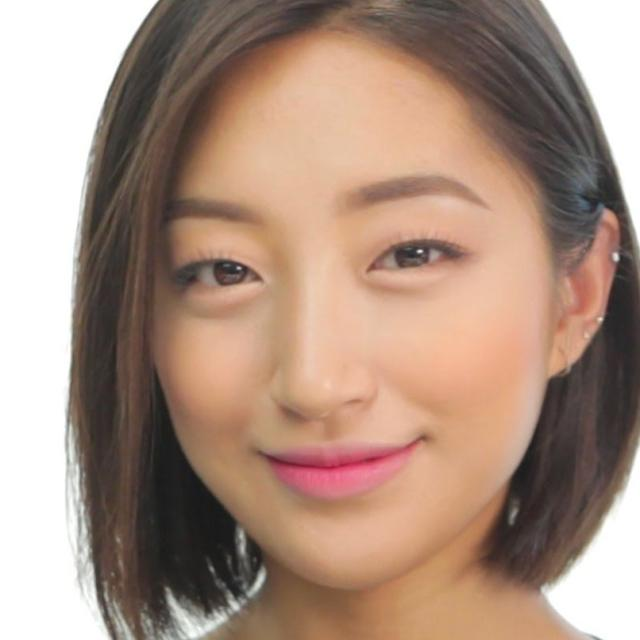Normal: (148, 21, 561, 597)
